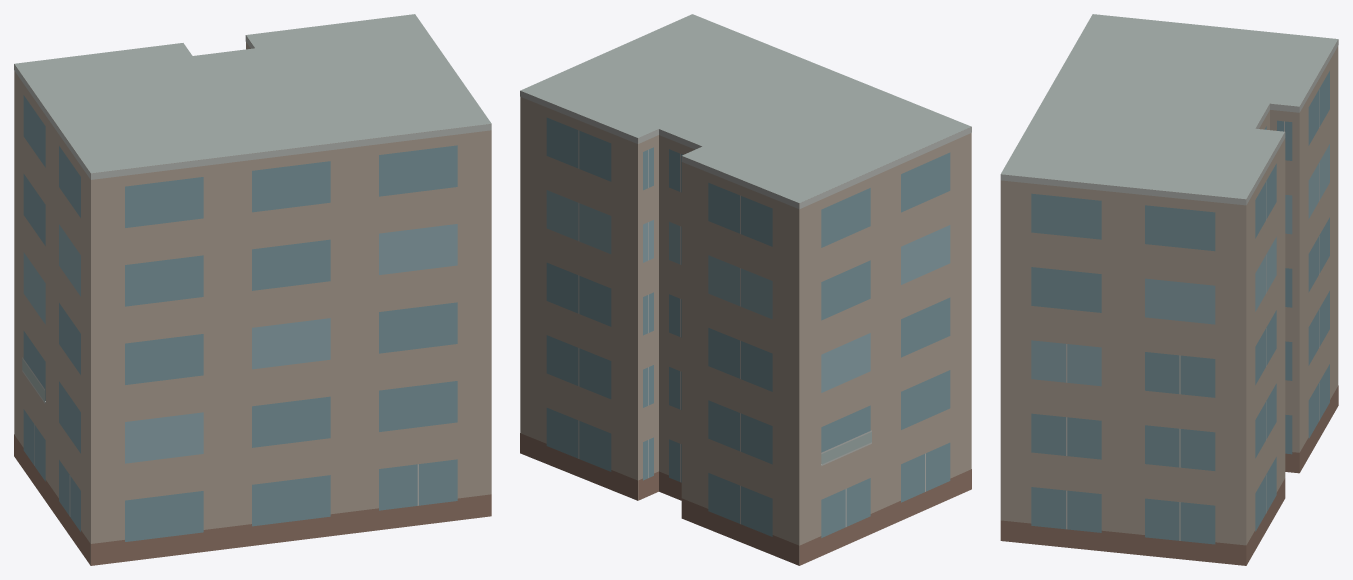
The model's file is survey-upis-32873143.glb.
3 views of the same model, side by side, from view 1: azimuth 30°, elevation 25°; view 2: azimuth 150°, elevation 25°; view 3: azimuth 270°, elevation 25° (orthographic). The views are drawn at different scales.
Visible parts, largest first — view 1: survey-upis-32873143.tmp; view 2: survey-upis-32873143.tmp; view 3: survey-upis-32873143.tmp.
Part boxes in pixels (box(x1,y1,x2,y2)): survey-upis-32873143.tmp: box(14, 14, 491, 565); survey-upis-32873143.tmp: box(520, 14, 971, 565); survey-upis-32873143.tmp: box(1000, 14, 1338, 565).
Size of the model in its own units: 15.84 by 14.6 by 12.21.
